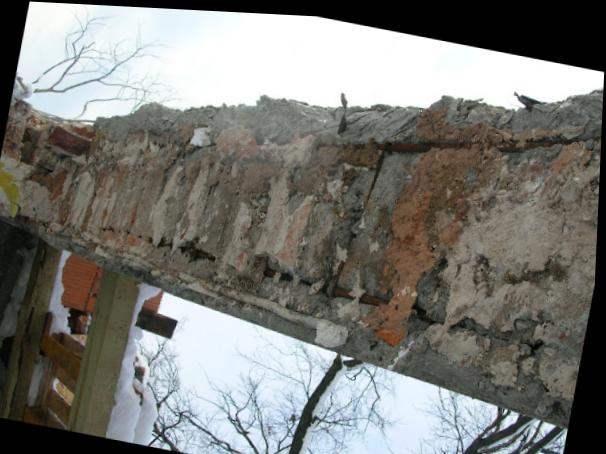damage: (3, 83, 604, 422)
